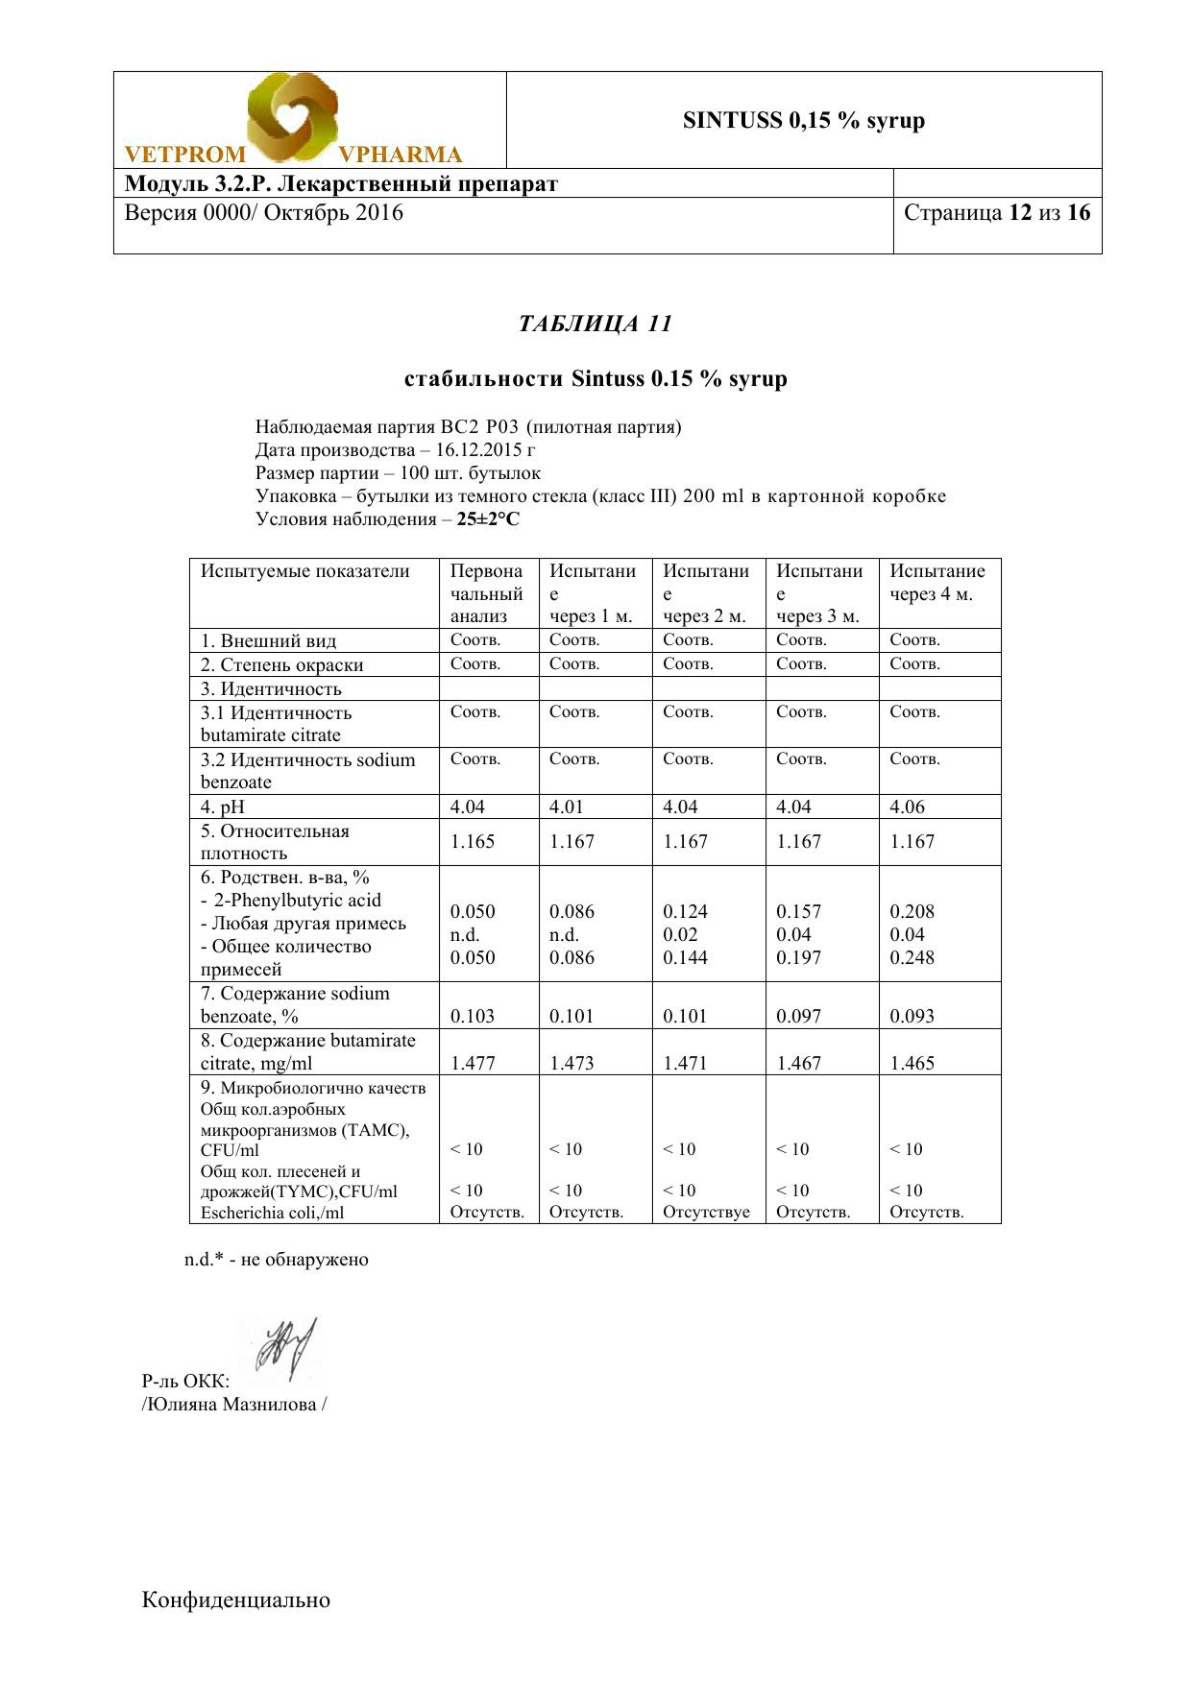full_lined: (188, 556, 1002, 1224)
merged_cells: (111, 68, 1106, 255)
